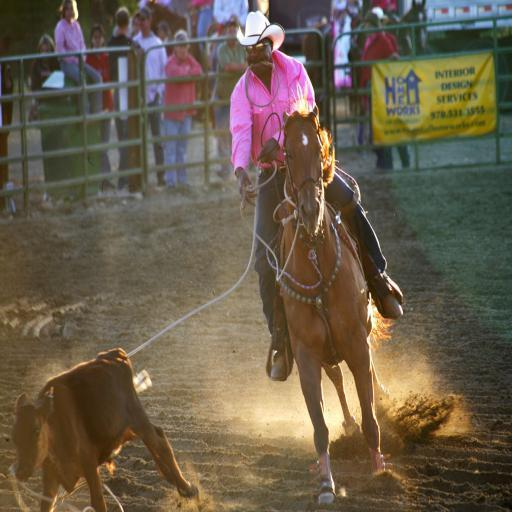horse: (277, 104, 391, 510)
